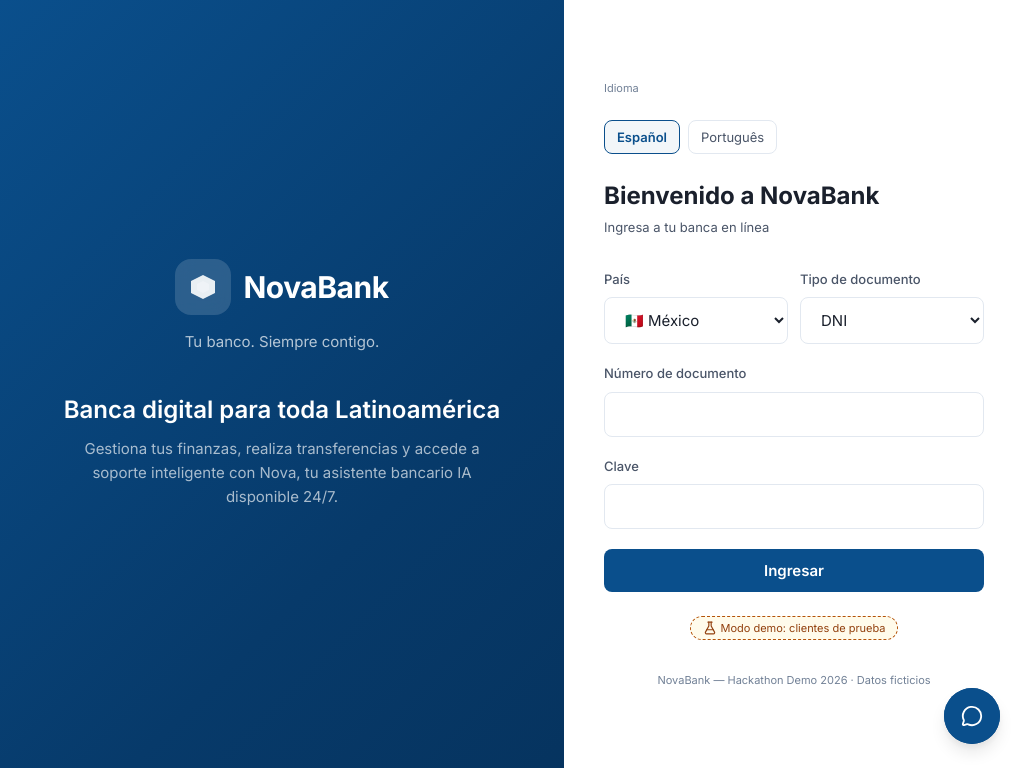
Test: Login: document + password, then the SMS code › offers the document types of the chosen country
Select "🇨🇴 Colombia" in the dropdown labelled "País" at x=696, y=320, box [604,297,788,344]
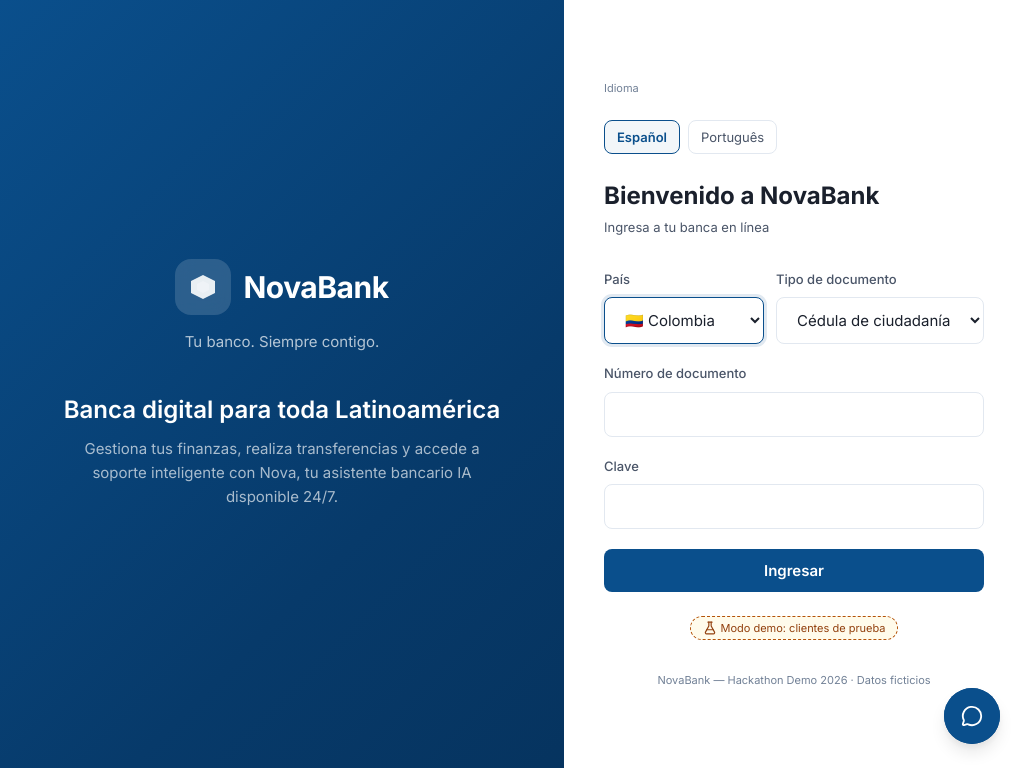
Select "🇦🇷 Argentina" in the dropdown labelled "País" at x=684, y=320, box [604,297,764,344]
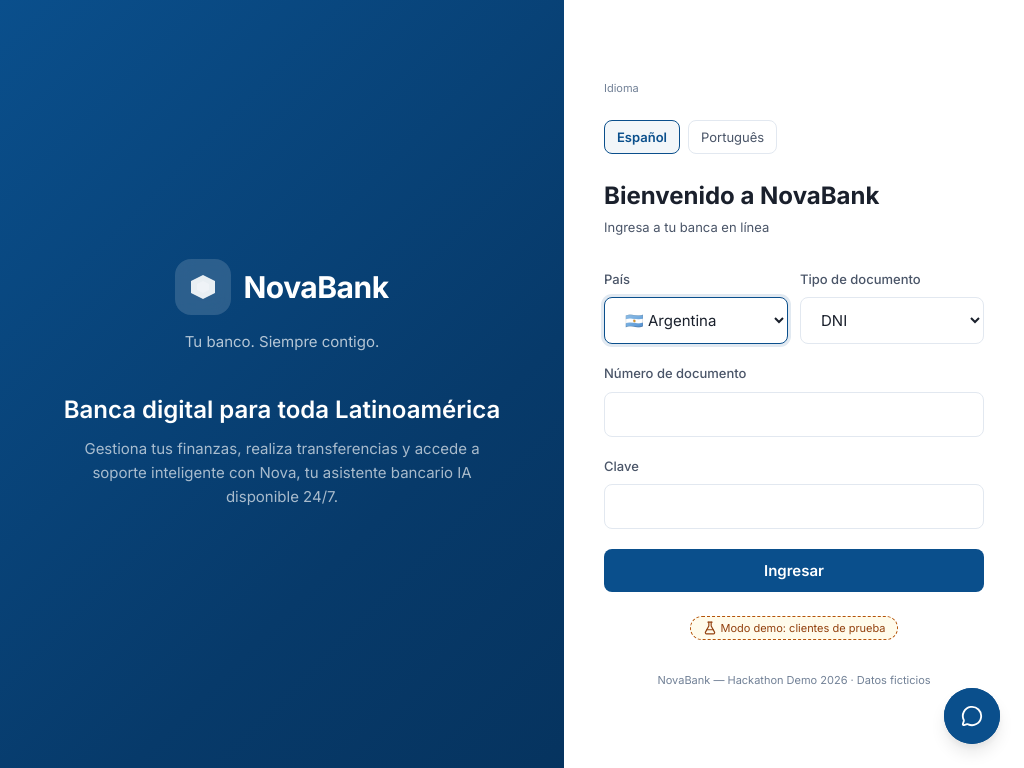
Result: the dropdown labelled "Tipo de documento" shows "DNI" at [800,297,984,344]
